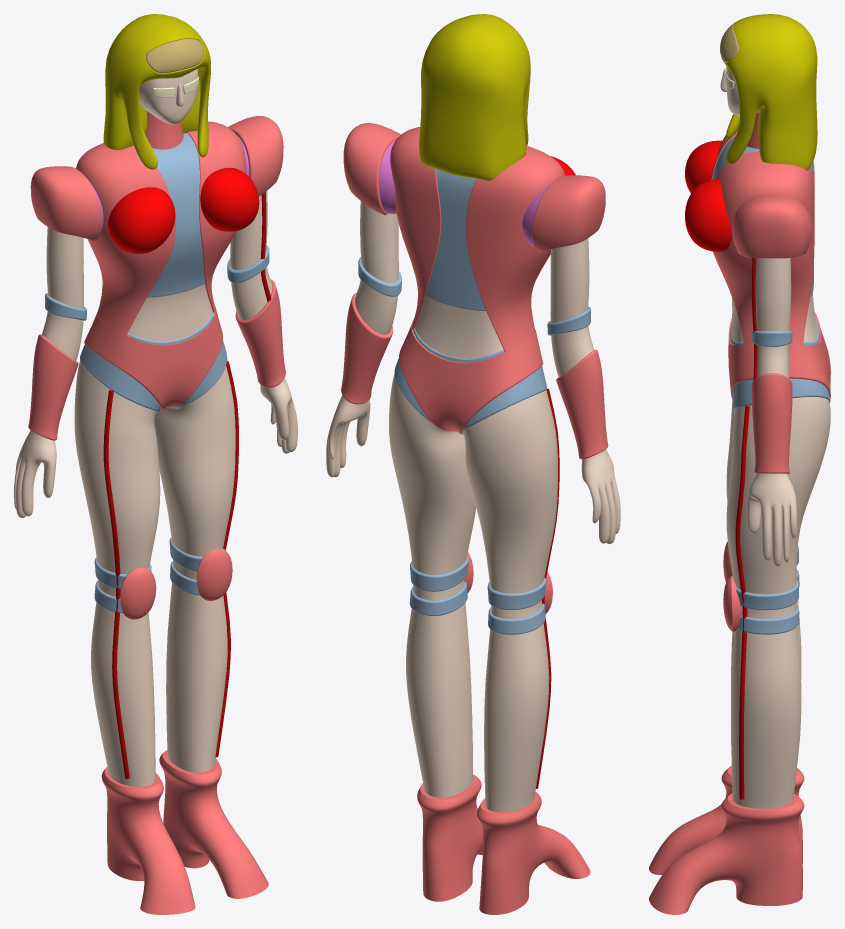
3 views of the same model, side by side, from view 1: azimuth 30°, elevation 25°; view 2: azimuth 150°, elevation 25°; view 3: azimuth 270°, elevation 25° (orthographic). The views are drawn at different scales.
Parts seen in each view (by area): view 1: 030_viewnusA_184; view 2: 030_viewnusA_184; view 3: 030_viewnusA_184.
Part boxes in pixels (bbox=[...]): 030_viewnusA_184: bbox=[14, 14, 297, 914]; 030_viewnusA_184: bbox=[326, 14, 620, 914]; 030_viewnusA_184: bbox=[649, 14, 830, 914].
Bounding box in the file's own units: 0.0633 × 0.1847 × 0.0352.
